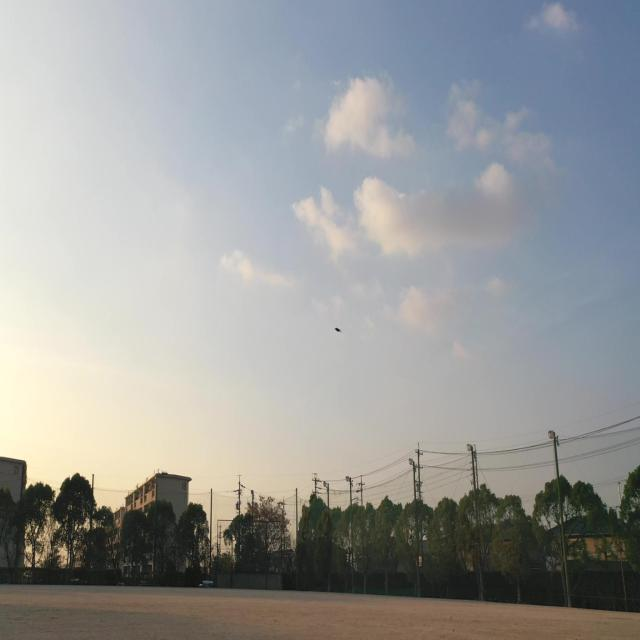Birds: (326, 320, 346, 340)
